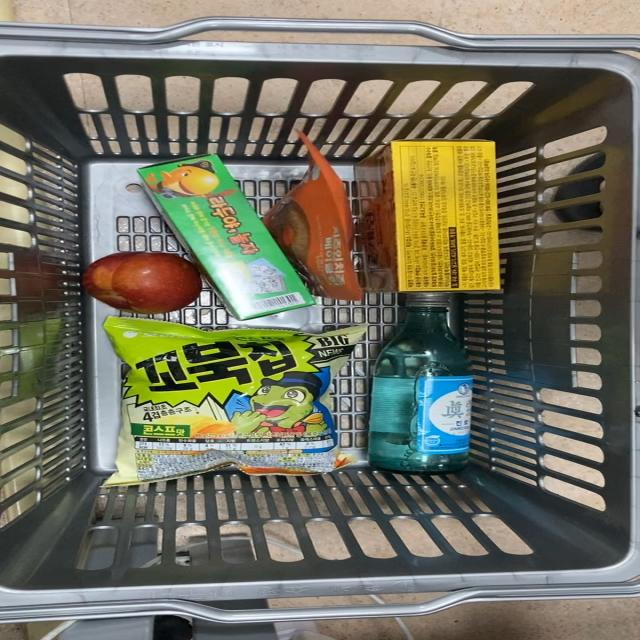cheesebagel: (263, 128, 375, 297)
ggobukchip: (99, 322, 362, 482)
goraebob: (140, 154, 309, 315)
jinro: (380, 294, 477, 476)
minicrab: (351, 137, 530, 293)
plum: (75, 243, 204, 318)
